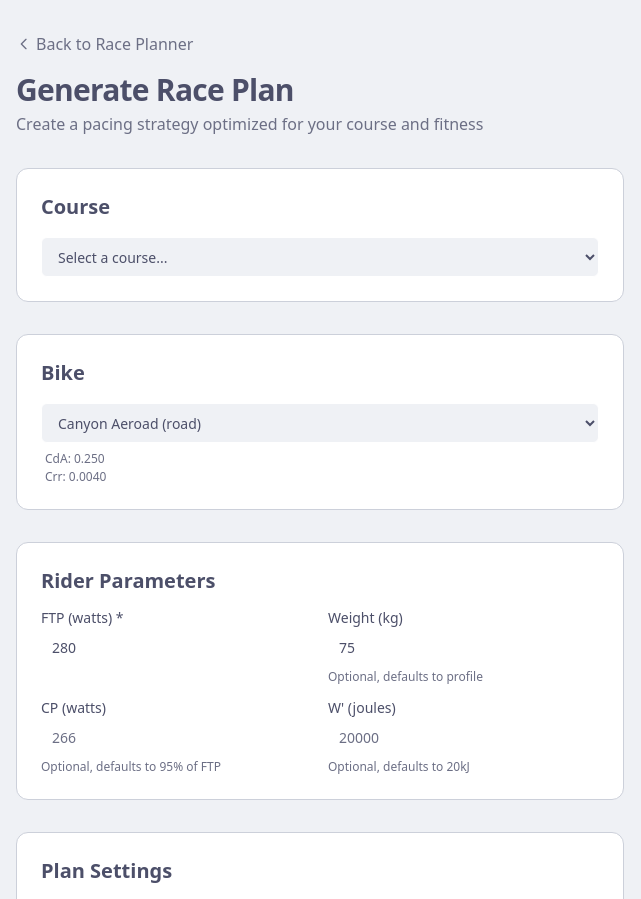
Test: GeneratePlan › Quick Preview › shows quick preview after successful generation
Expected: the number field showing "280" is shown, top-left (41, 631), bottom-right (312, 663)
Step 1. Select "Test Course (50.0 km, 1000 m gain)" in the 1st dropdown → x=320, y=257, box top-left (41, 237), bottom-right (599, 277)
(page scrolled)
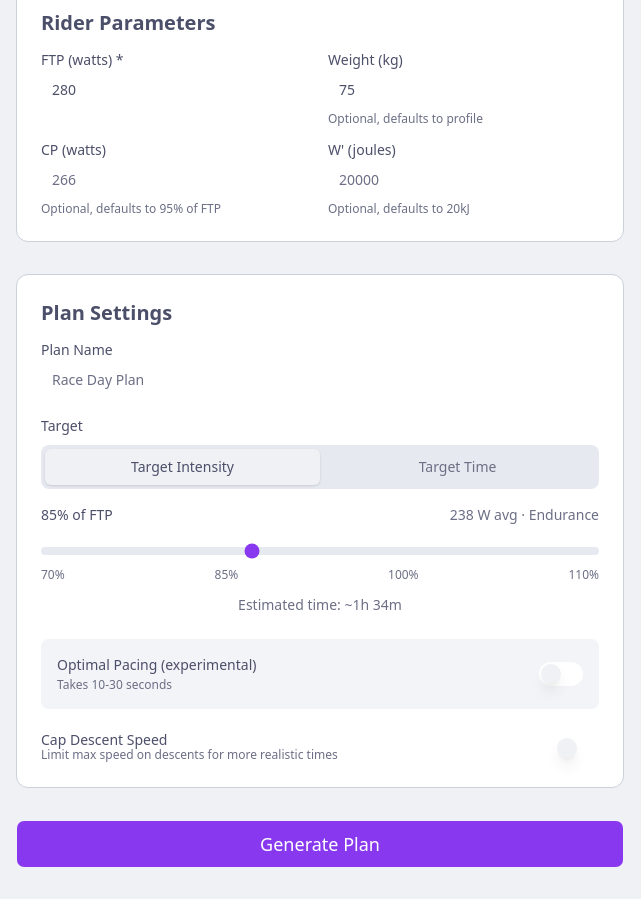
Step 2. Click the button "Generate Plan" → x=320, y=844, box top-left (16, 820), bottom-right (624, 868)
(page scrolled)
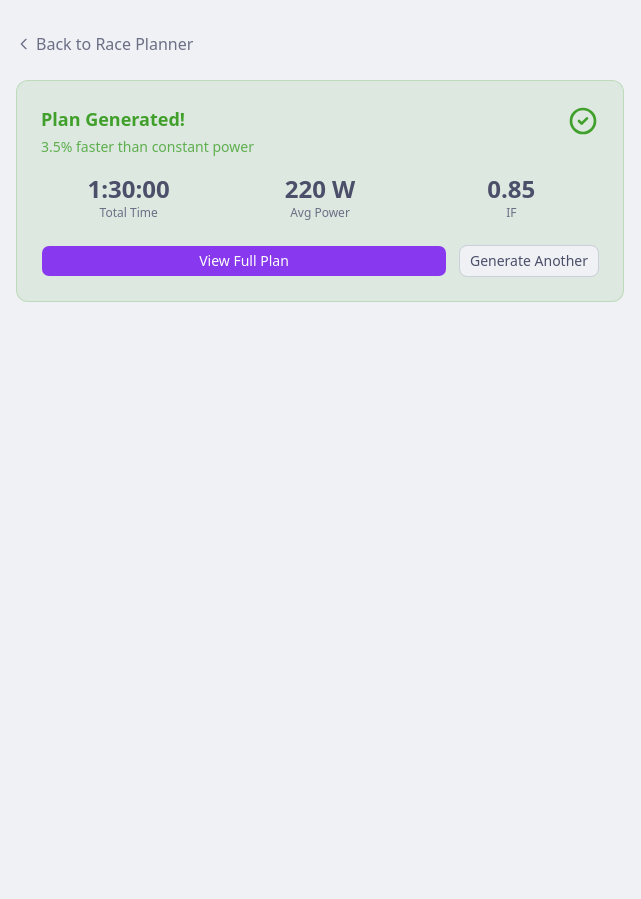
Result: the heading "Plan Generated!" is shown at top-left (41, 105), bottom-right (185, 133)
Result: the text "1:30:00" is shown at top-left (88, 172), bottom-right (170, 205)
Result: the text "220 W" is shown at top-left (285, 172), bottom-right (355, 205)
